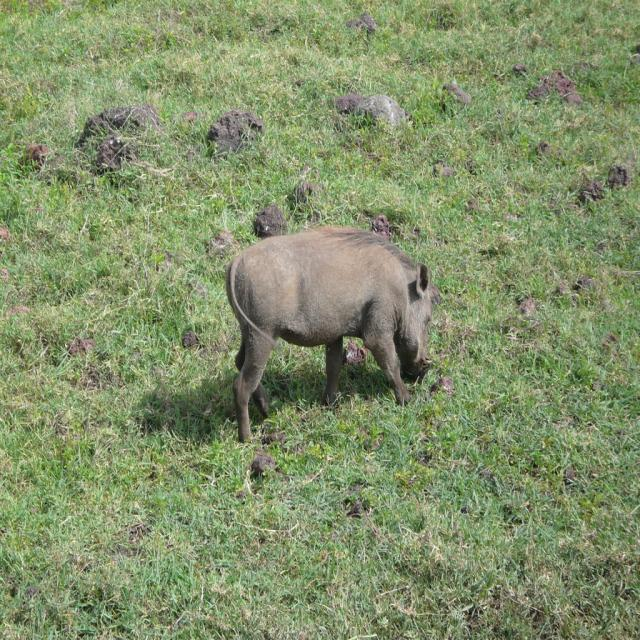Pig: (225, 225, 434, 444)
